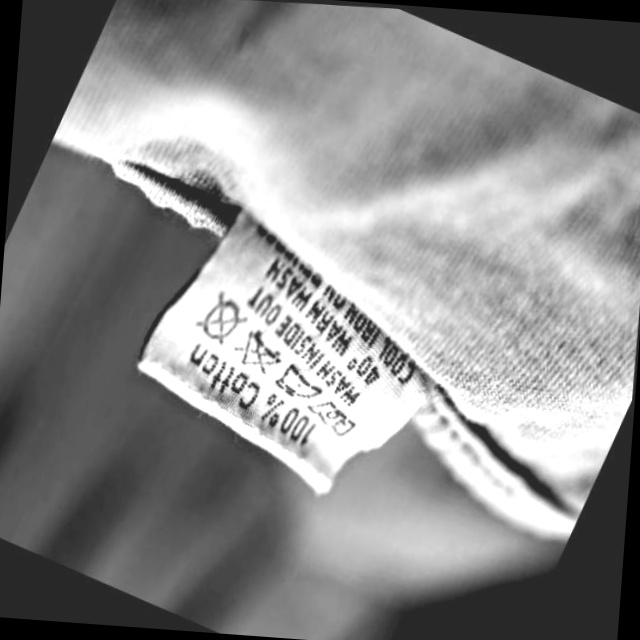40C: (305, 396, 355, 439)
DN_bleach: (236, 327, 283, 376)
DN_dry_clean: (190, 291, 244, 349)
iron_low: (271, 357, 321, 406)
